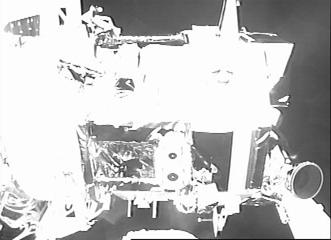antenna: (196, 208, 220, 238), (277, 93, 291, 109)
body: (55, 31, 297, 205)
solar: (277, 190, 331, 240), (216, 0, 244, 40), (2, 13, 41, 39)
thruster: (282, 160, 324, 200), (136, 198, 151, 210)
